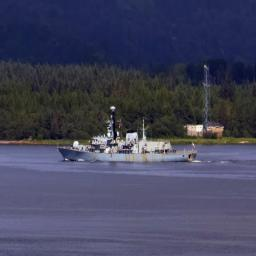Fragata: (57, 105, 199, 165)
